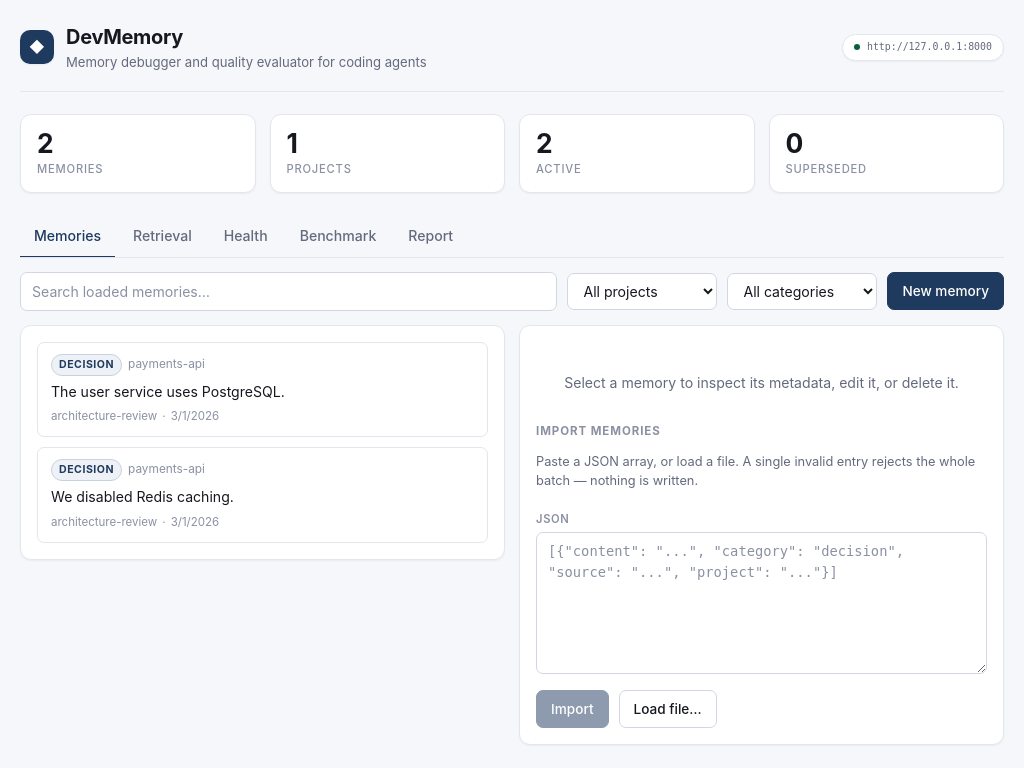
Test case: stats and list › filters the visible list by search without another request
This screenshot has width=1024, height=768.
Check: the text "The user service uses PostgreSQL." is shown, box top-left (51, 383), bottom-right (285, 400)
Type "redis" into the search field named "Search memories" at (289, 291), box top-left (20, 272), bottom-right (557, 311)
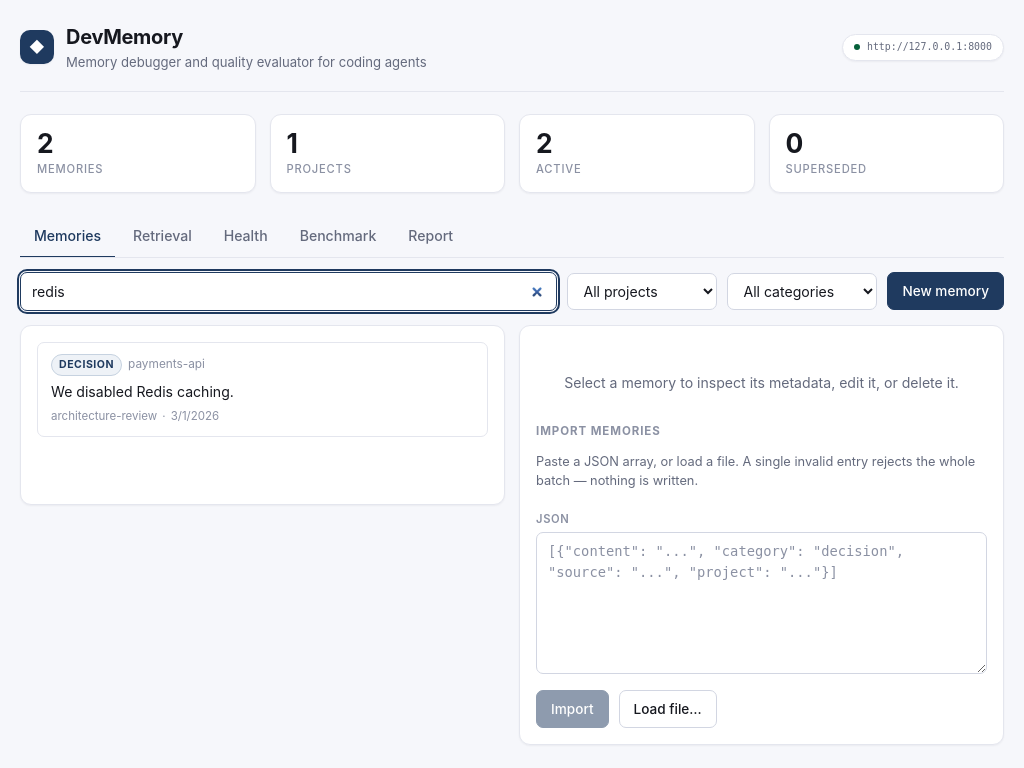
Check: the text "We disabled Redis caching." is shown, box top-left (51, 383), bottom-right (234, 400)
Check: the button "uses PostgreSQL" is gone
